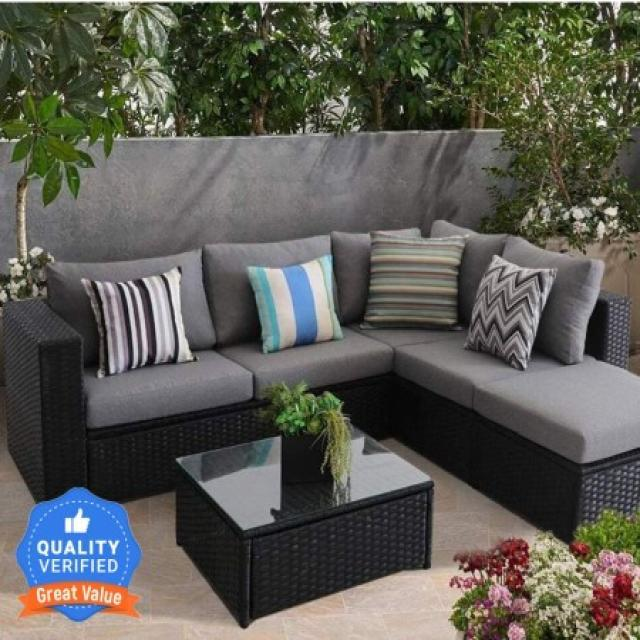sofa: (1, 218, 638, 546)
